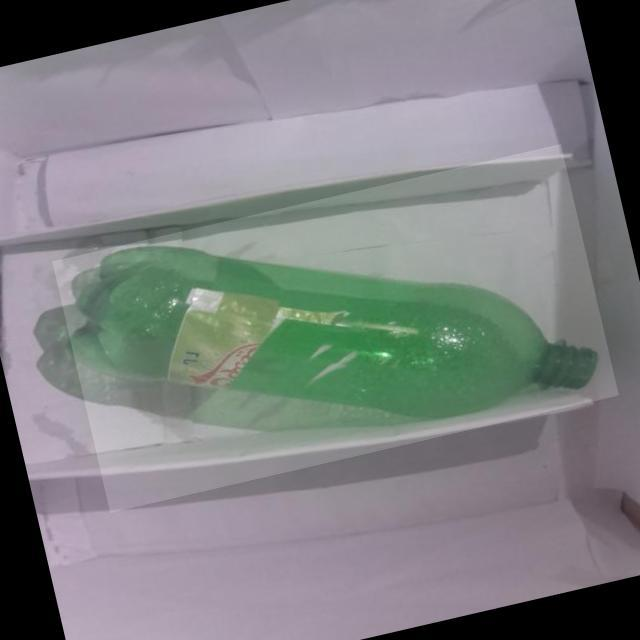good: (51, 143, 618, 512)
